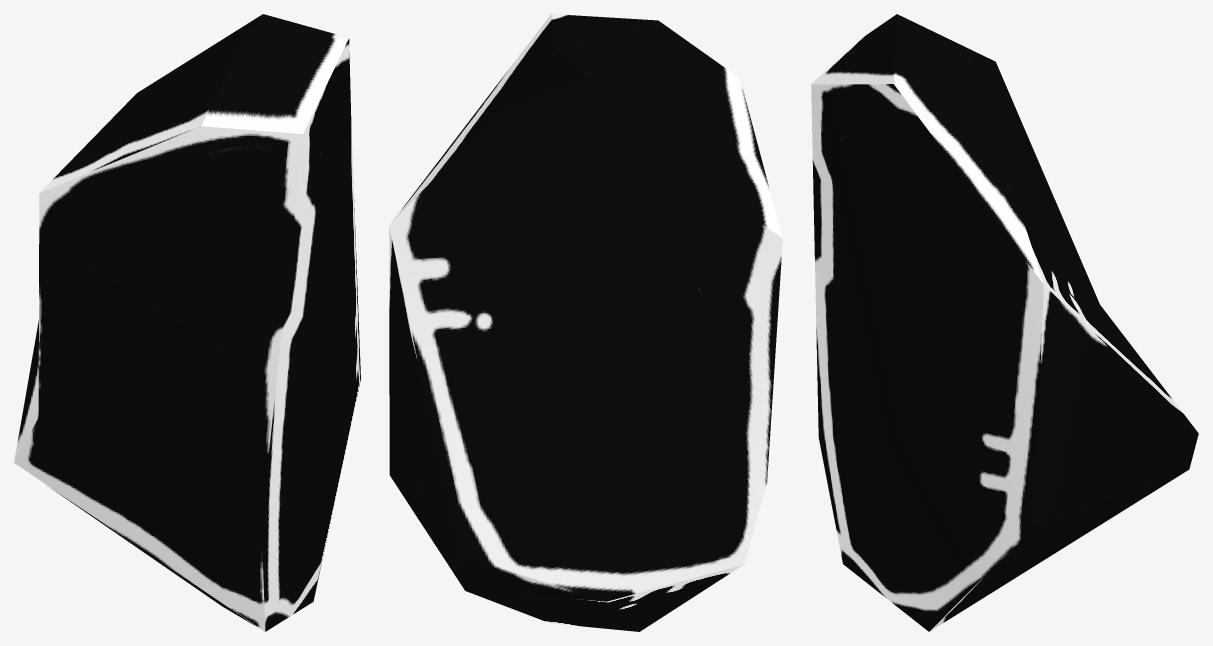
File: asteroid1.glb
3 views of the same model, side by side, from view 1: azimuth 30°, elevation 25°; view 2: azimuth 150°, elevation 25°; view 3: azimuth 270°, elevation 25° (orthographic). The views are drawn at different scales.
Parts seen in each view (by area): view 1: rock.006; view 2: rock.006; view 3: rock.006.
Boxes of the visible parts, left/top/right/bottom form: rock.006: left=14, top=14, right=360, bottom=631; rock.006: left=389, top=14, right=782, bottom=631; rock.006: left=811, top=14, right=1198, bottom=631.
Size of the model in its own units: 0.6186 by 0.9989 by 0.6091.
Materials: 1 (1 with a texture image).
